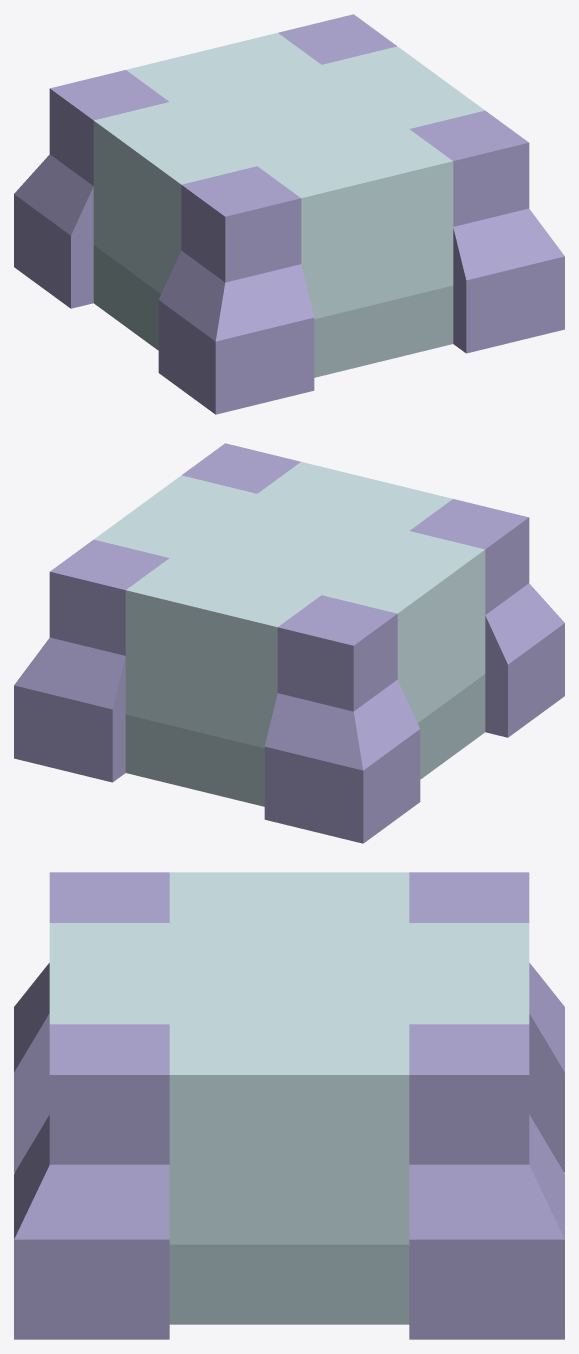
Rendered from towerSquare_bottomB.glb.
3 views of the same model, one above another, from view 1: azimuth 30°, elevation 25°; view 2: azimuth 150°, elevation 25°; view 3: azimuth 270°, elevation 25° (orthographic). The views are drawn at different scales.
Visible parts, largest first — view 1: towerSquare_bottomB; view 2: towerSquare_bottomB; view 3: towerSquare_bottomB.
Boxes of the visible parts, x1,y1,x2,y2 form: towerSquare_bottomB: (14, 14, 564, 414); towerSquare_bottomB: (14, 443, 564, 843); towerSquare_bottomB: (14, 872, 564, 1339).
Size of the model in its own units: 1 by 0.5 by 1.
